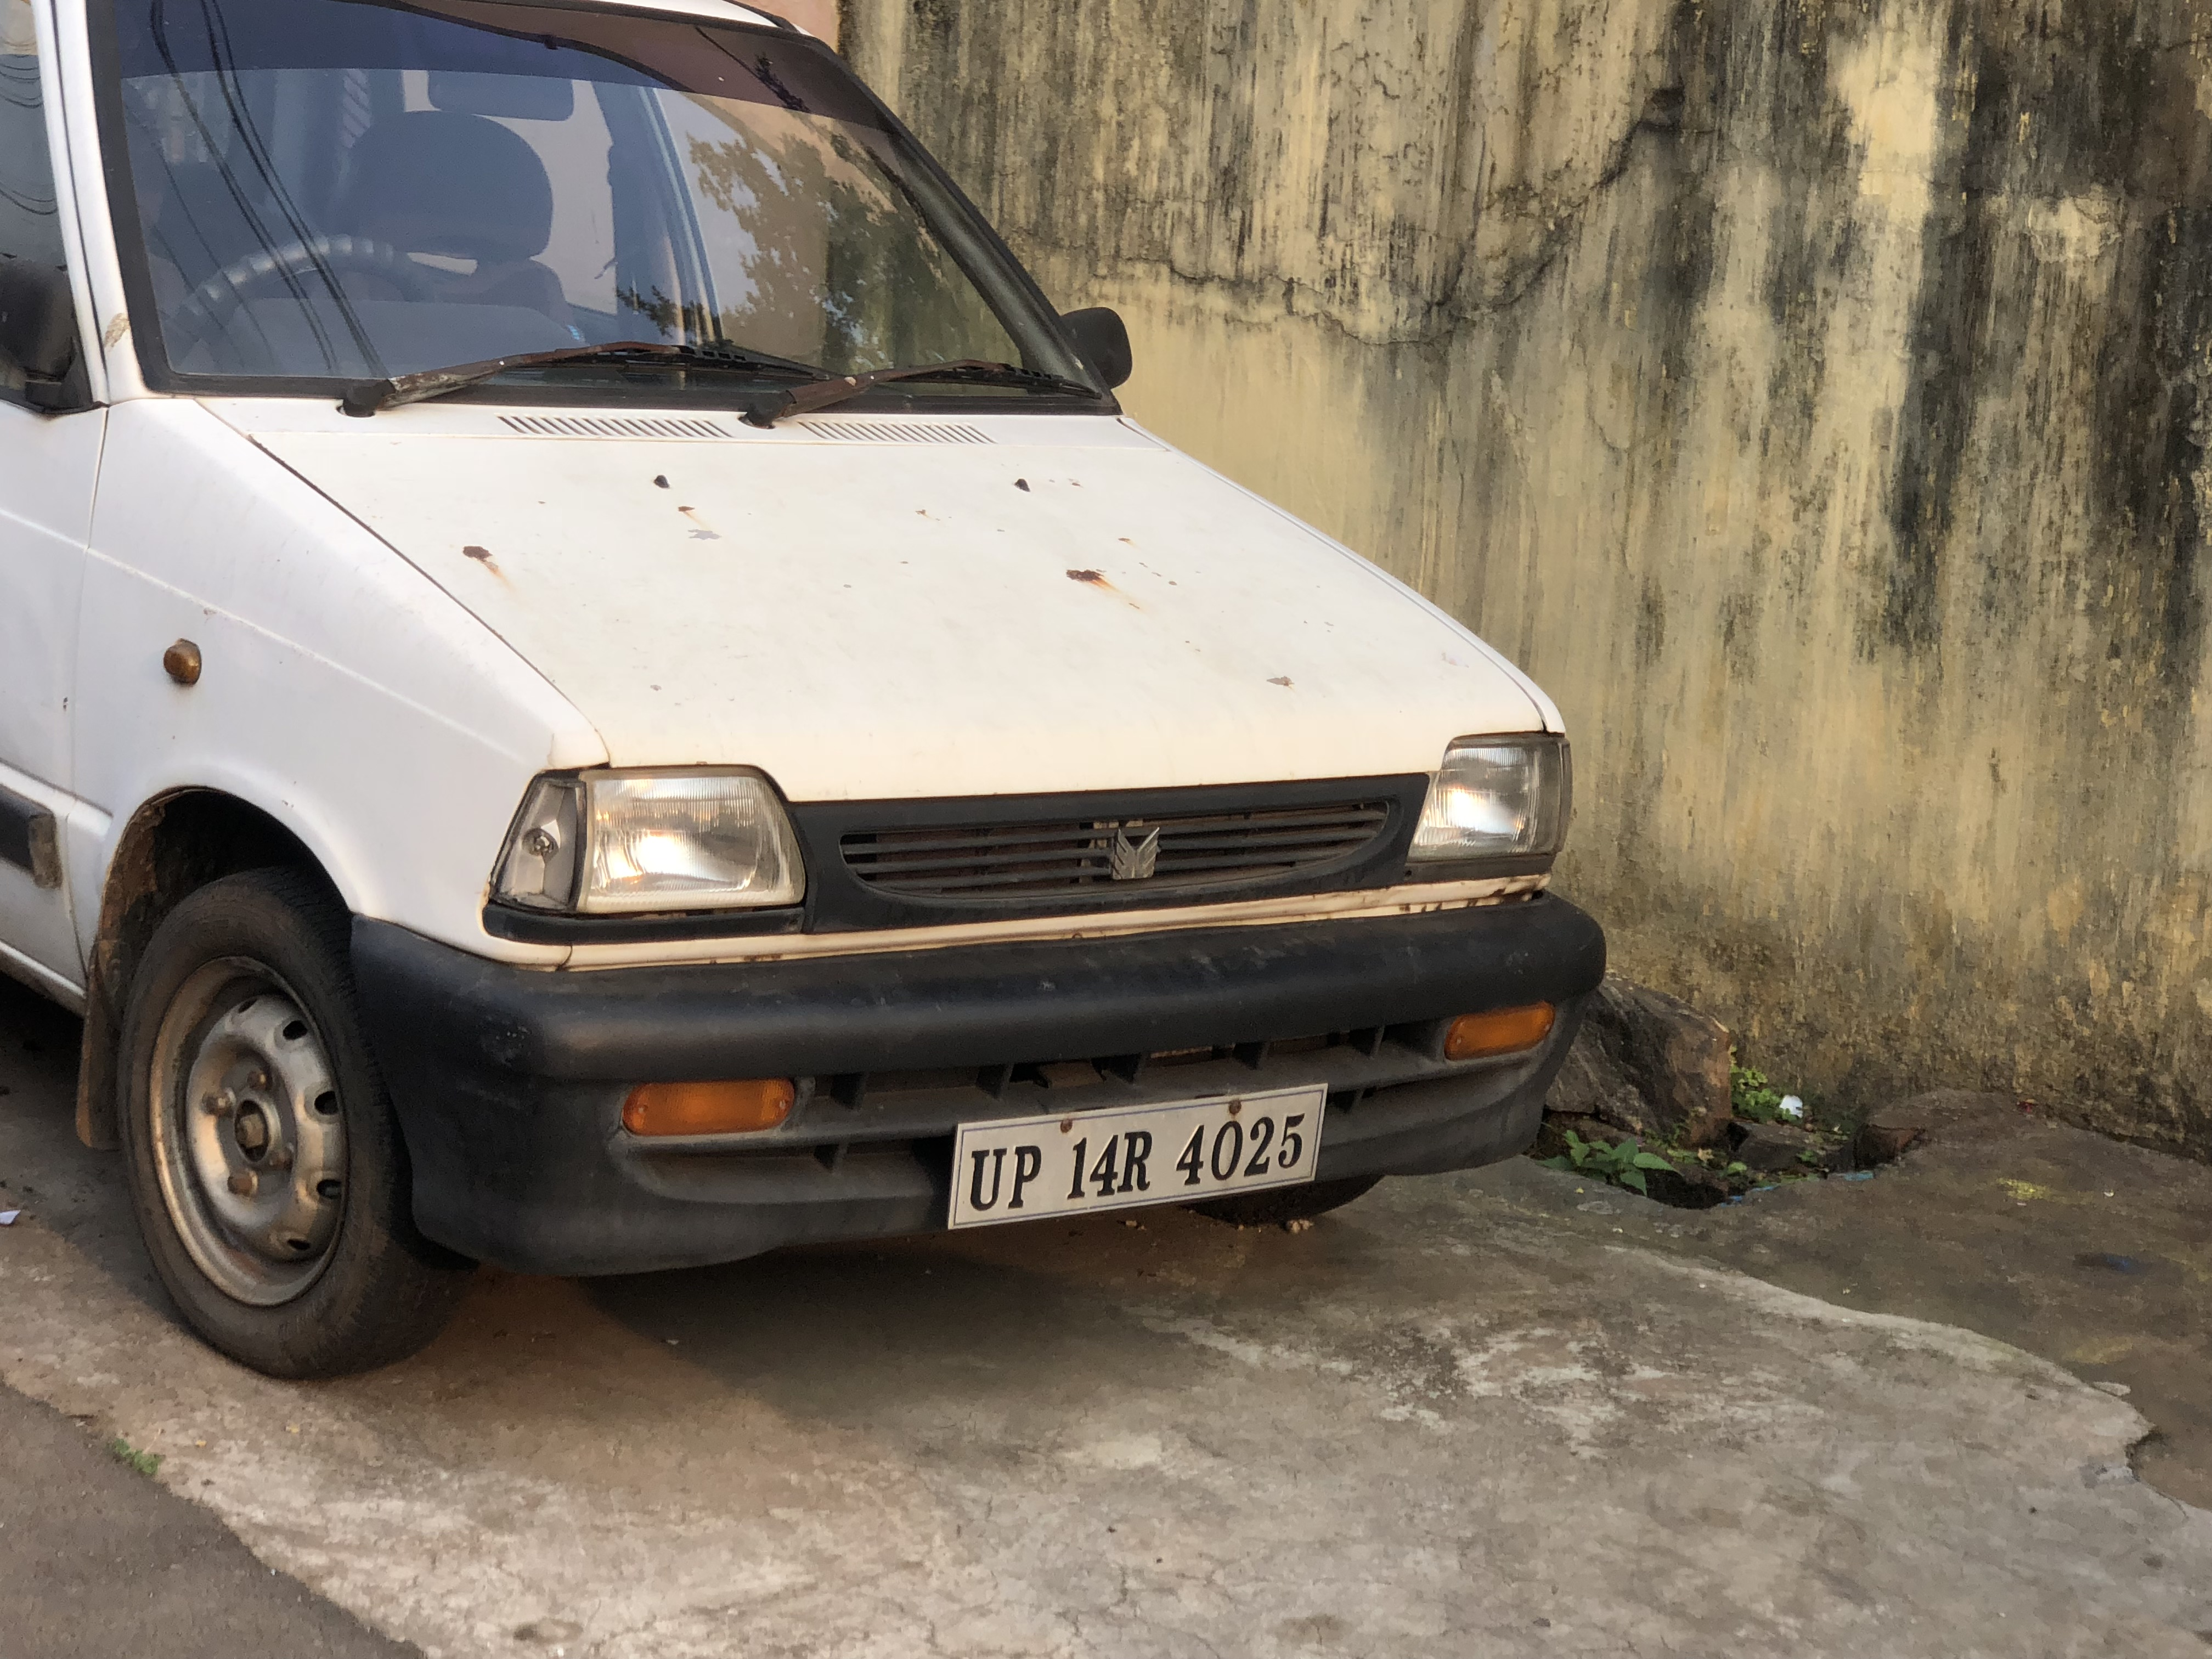licenseplate: (946, 1079, 1337, 1231)
